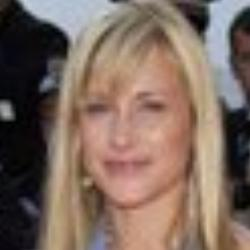face: (34, 3, 236, 234)
